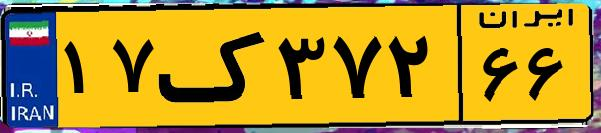1: (57, 26, 110, 100)
2: (385, 28, 445, 110)
3: (270, 28, 330, 110)
6: (475, 38, 525, 113), (525, 38, 570, 115)
7: (330, 28, 385, 110), (110, 28, 158, 98)
ک: (158, 12, 270, 120)
